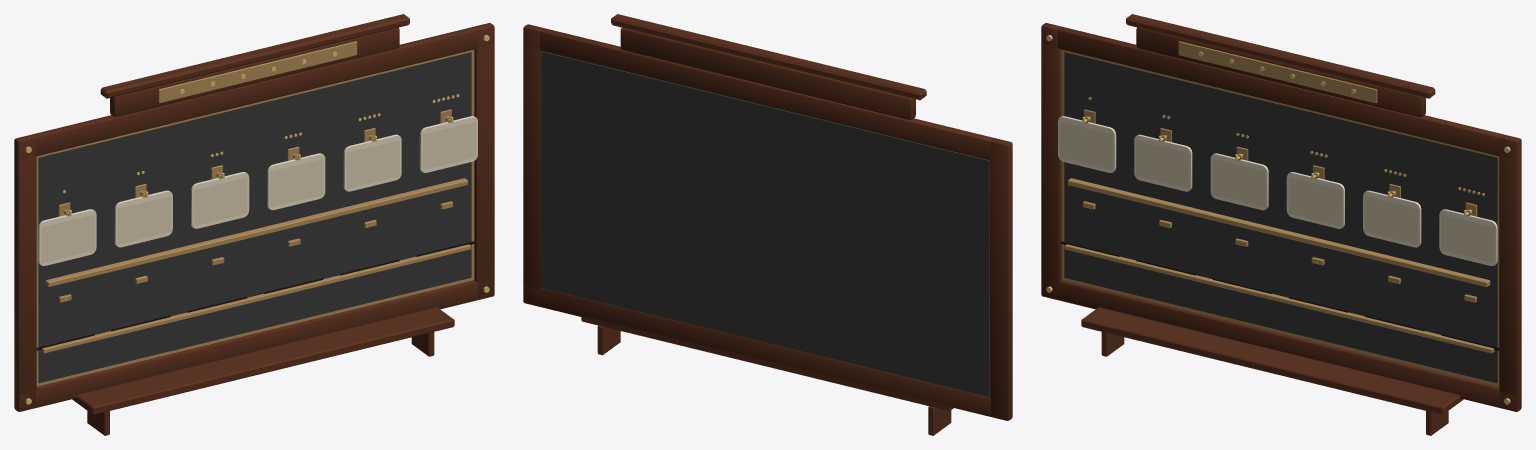
The model's file is roll_call_board.glb.
3 renders of one model, left to right at view 1: azimuth 30°, elevation 25°; view 2: azimuth 150°, elevation 25°; view 3: azimuth 330°, elevation 25°, orthographic.
Parts seen in each view (by area): view 1: roll_call_board_body, IA_tag_1, IA_tag_3, IA_tag_4, IA_tag_0, IA_tag_2, IA_tag_5; view 2: roll_call_board_body; view 3: roll_call_board_body, IA_tag_4, IA_tag_1, IA_tag_2, IA_tag_3, IA_tag_5, IA_tag_0.
Part boxes in pixels (box(x1,y1,x2,y2)): roll_call_board_body: box(14, 14, 494, 435); IA_tag_1: box(114, 190, 172, 247); IA_tag_3: box(267, 153, 325, 210); IA_tag_4: box(343, 134, 401, 191); IA_tag_0: box(38, 209, 96, 265); IA_tag_2: box(191, 172, 249, 228); IA_tag_5: box(419, 116, 477, 172); roll_call_board_body: box(523, 14, 1012, 435); roll_call_board_body: box(1041, 14, 1521, 435); IA_tag_4: box(1363, 190, 1421, 247); IA_tag_1: box(1134, 134, 1192, 191); IA_tag_2: box(1210, 153, 1268, 210); IA_tag_3: box(1286, 172, 1344, 228); IA_tag_5: box(1439, 209, 1497, 265); IA_tag_0: box(1058, 116, 1116, 172).
Size of the model in its own units: 2.5 by 1.67 by 0.2.
